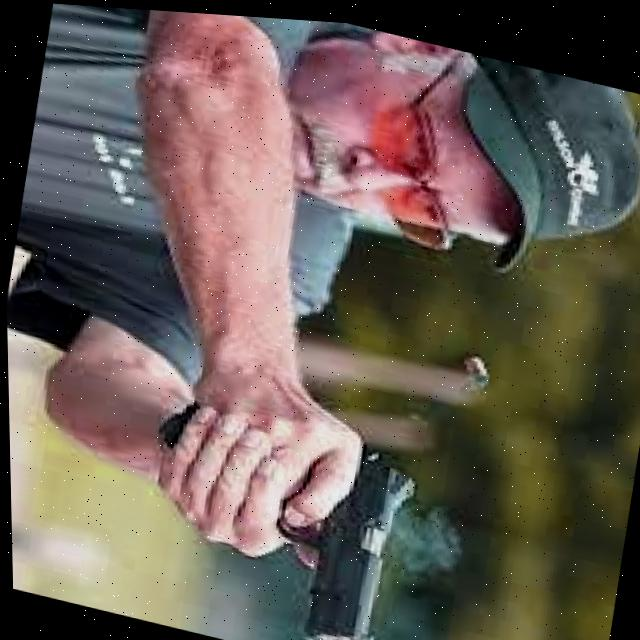gun: (272, 448, 413, 640), (156, 402, 195, 451)
